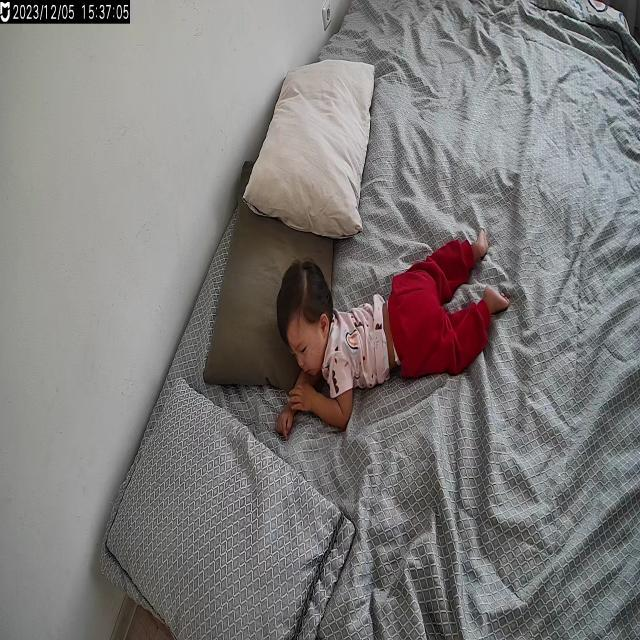baby: (271, 231, 514, 442)
